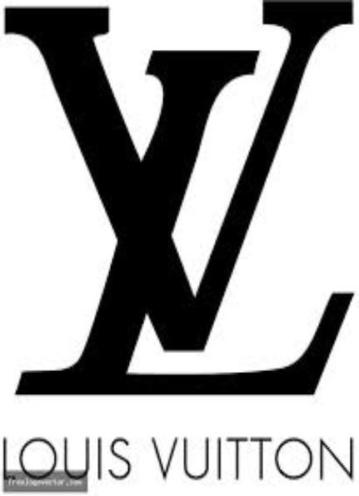LOUIS-VUITTON: (1, 1, 354, 415), (1, 430, 355, 485)
